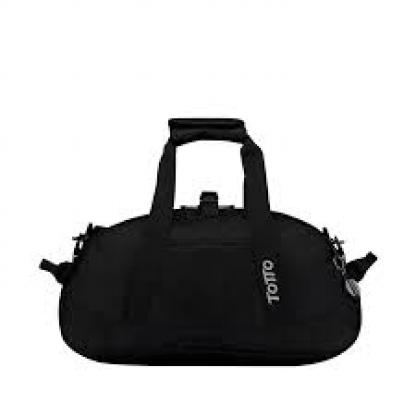morral: (26, 94, 383, 379)
